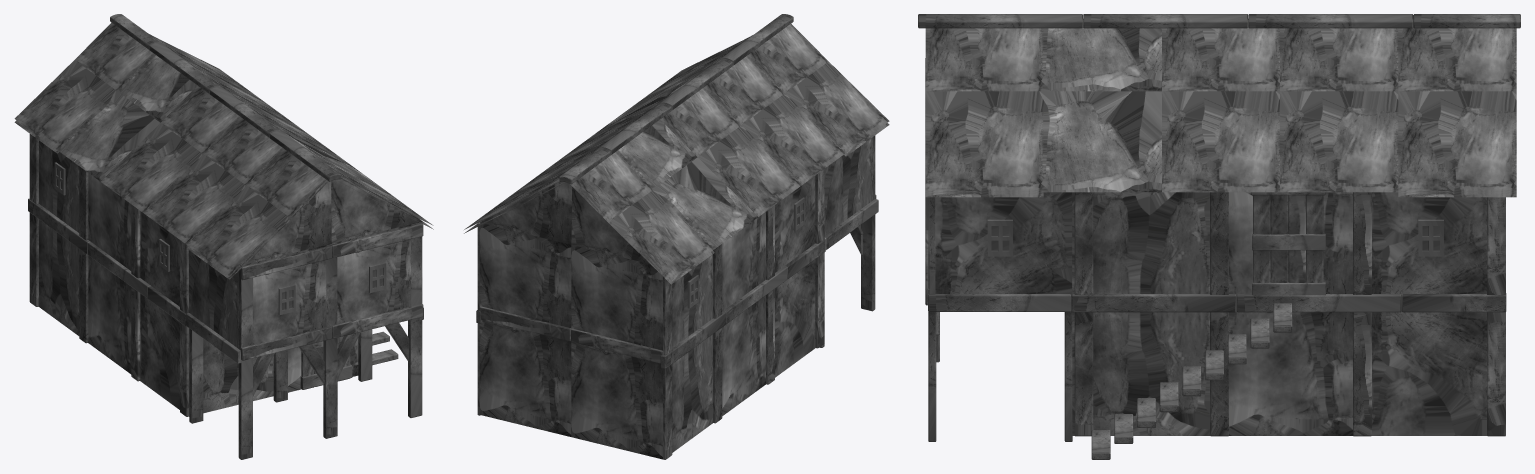
Rendered from house 4.fbx.
3 views of the same model, side by side, from view 1: azimuth 30°, elevation 25°; view 2: azimuth 150°, elevation 25°; view 3: azimuth 270°, elevation 25° (orthographic). The views are drawn at different scales.
Parts seen in each view (by area): view 1: stone wall 1.017; view 2: stone wall 1.017; view 3: stone wall 1.017.
Part boxes in pixels (x1,y1,x2,y2): stone wall 1.017: (14, 14, 433, 459); stone wall 1.017: (464, 14, 889, 459); stone wall 1.017: (918, 14, 1520, 459).
Size of the model in its own units: 507 by 563 by 840.
